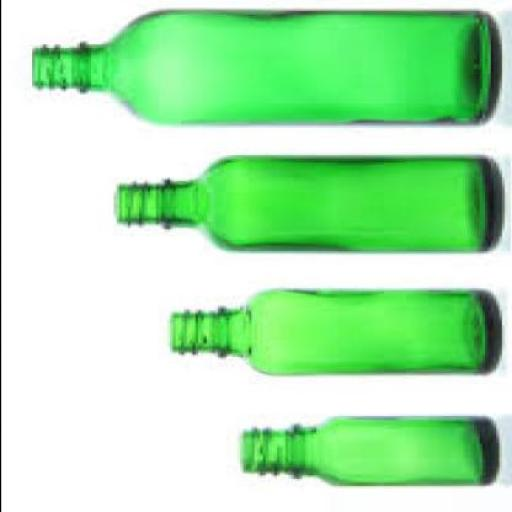glass: (25, 8, 498, 126), (112, 153, 498, 252), (163, 286, 498, 374), (237, 414, 498, 484)
